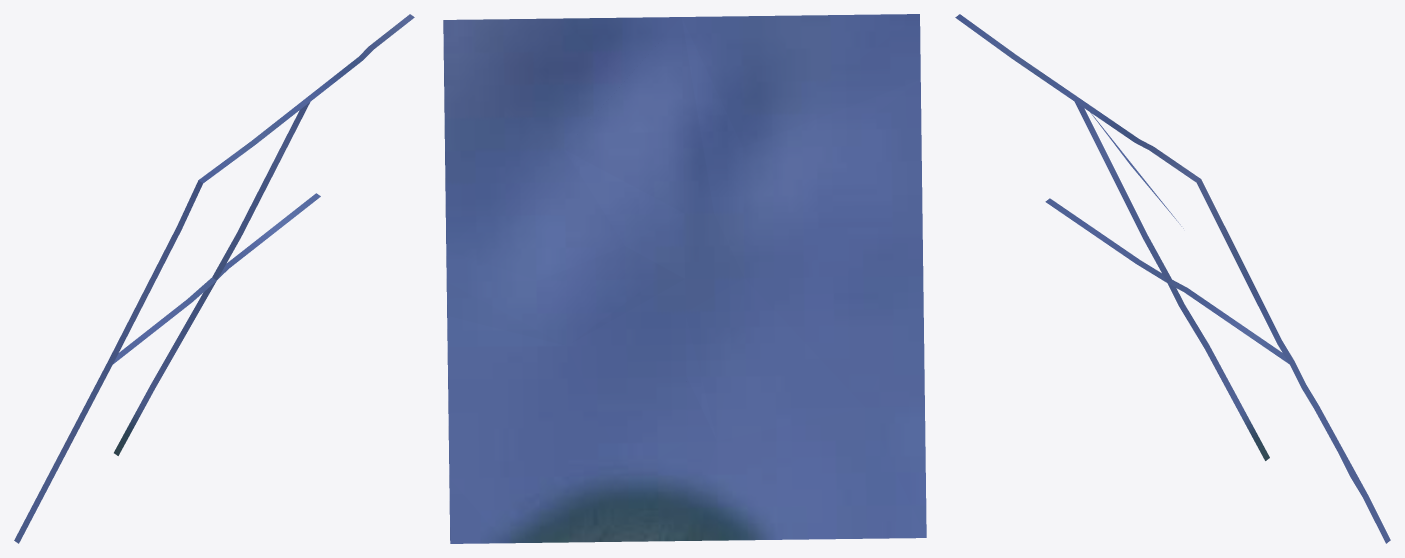
3 renders of one model, left to right at view 1: azimuth 30°, elevation 25°; view 2: azimuth 150°, elevation 25°; view 3: azimuth 270°, elevation 25°, orthographic. The views are drawn at different scales.
Bounding box in the file's own units: 4895 × 4436 × 4208.
Materials: 1 (1 with a texture image).
